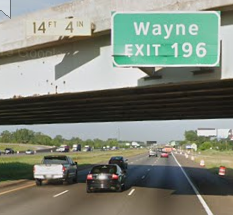1: (30, 19, 37, 36)
4: (62, 19, 76, 35), (36, 19, 47, 35)
overheadsign: (26, 17, 92, 38)
